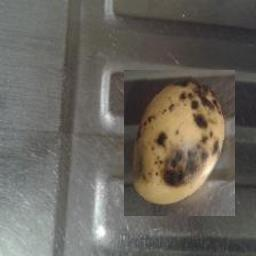Mango Rotten: (124, 70, 235, 216)
